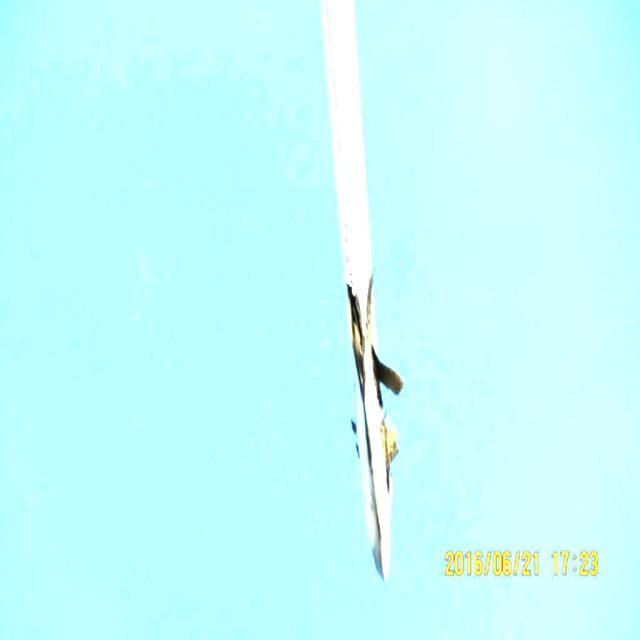crack: (340, 267, 411, 488)
